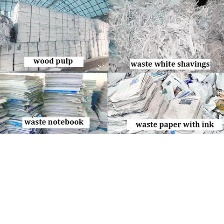book: (108, 0, 223, 73), (41, 72, 88, 134), (0, 71, 44, 135), (79, 76, 99, 130), (93, 73, 108, 127), (0, 87, 12, 137)
news_paper: (108, 74, 158, 134), (161, 92, 206, 132), (157, 73, 191, 100)
